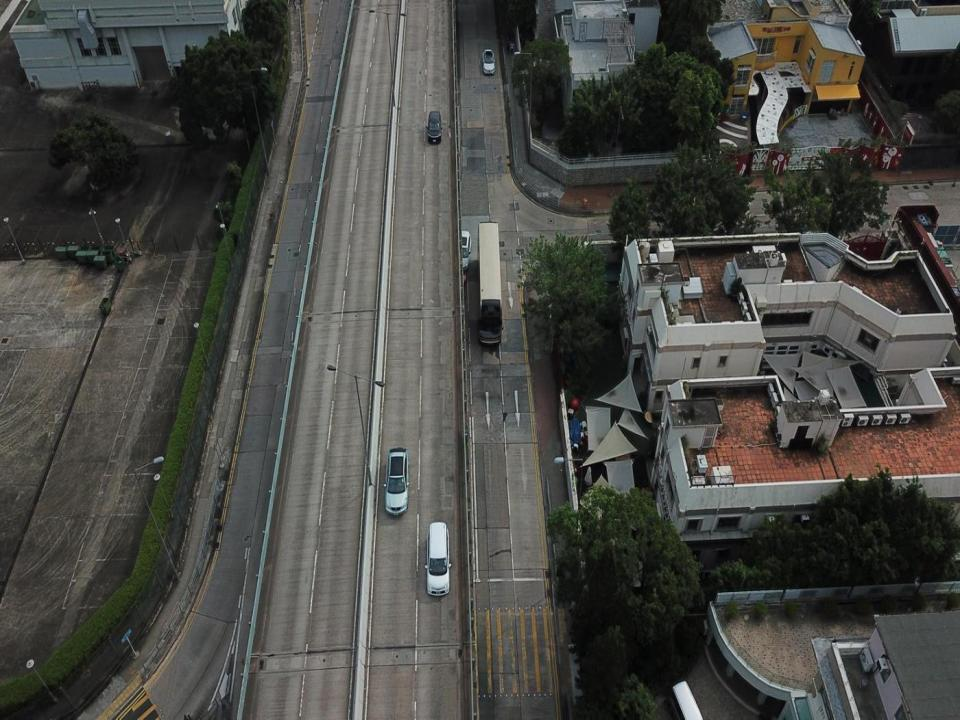bus: (477, 222, 502, 344)
car: (383, 449, 409, 516), (454, 229, 473, 267), (482, 48, 496, 75)
van: (425, 522, 451, 596), (666, 680, 708, 719), (427, 110, 442, 147)
